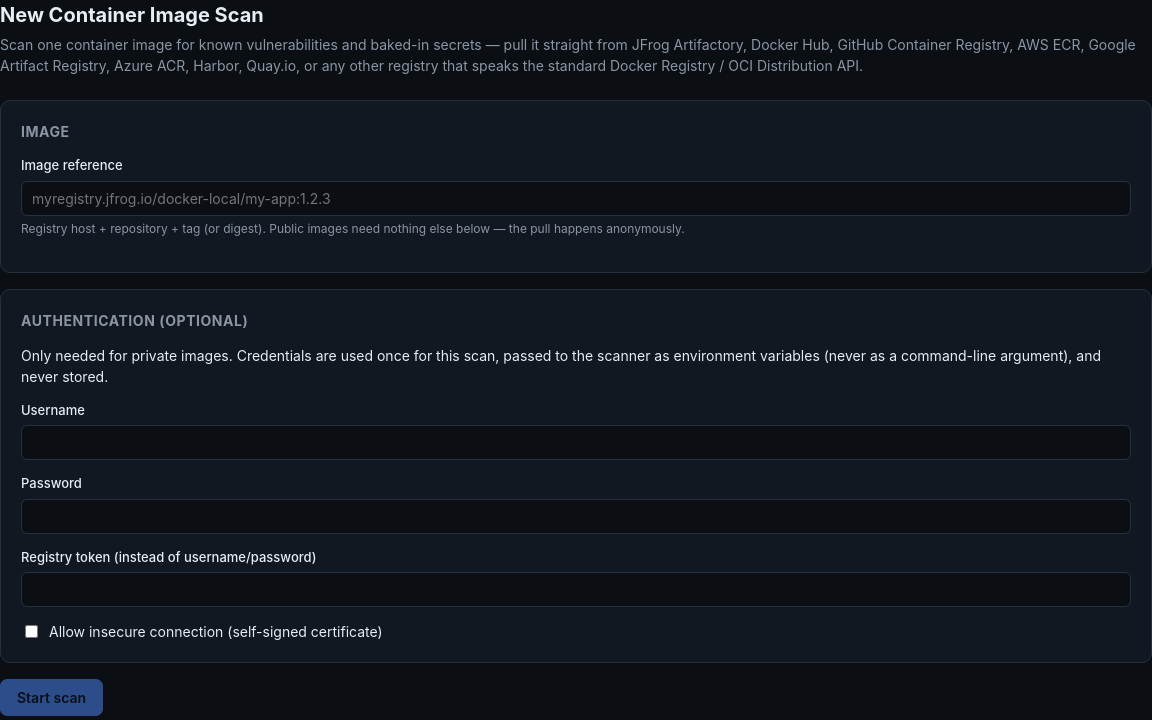
NewRegistryScan › shows an error banner when the scan fails to start
Type "bad:ref" into the field labelled "Image reference" at (576, 198), box left=21, top=180, right=1131, bottom=216
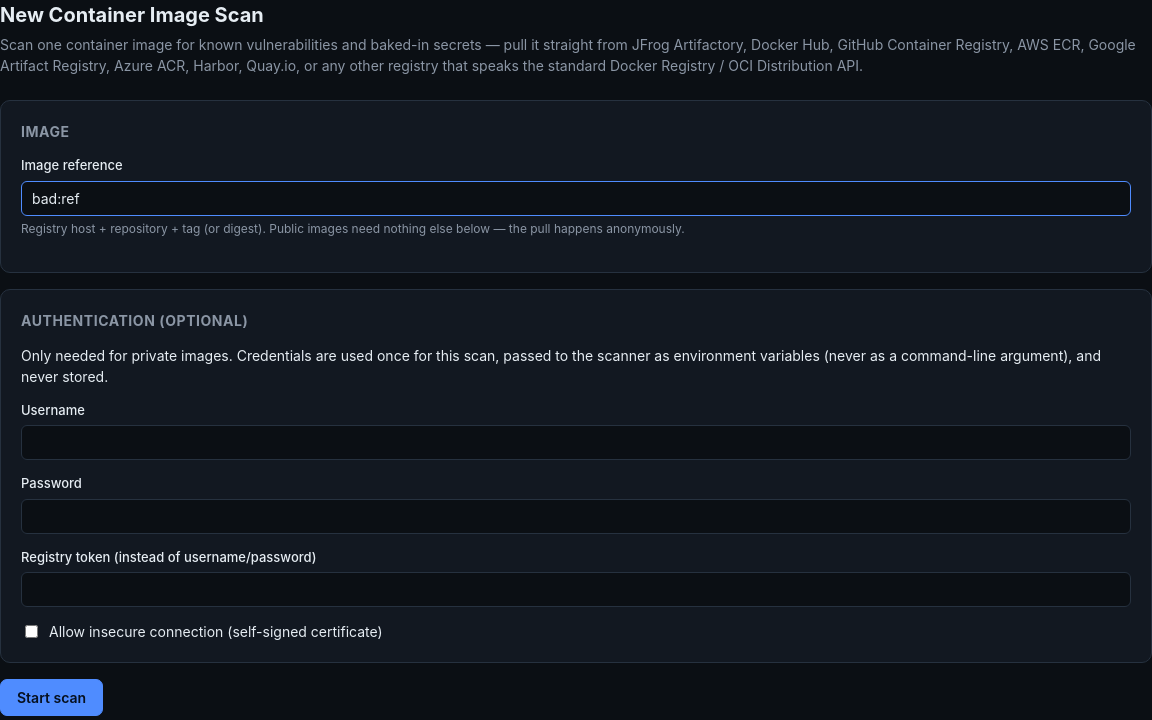
Click the button "Start scan" at (52, 698), box left=0, top=679, right=103, bottom=716
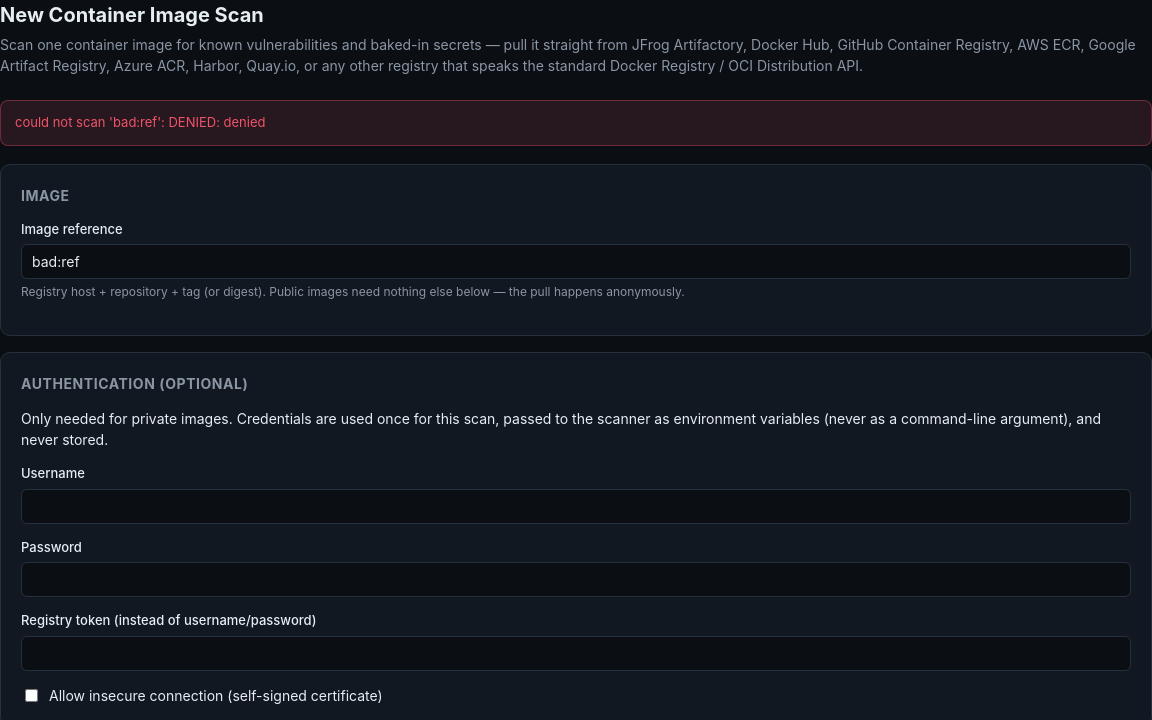
Expected: the text "could not scan 'bad:ref': DENIED: denied" is shown, left=0, top=100, right=1151, bottom=146
